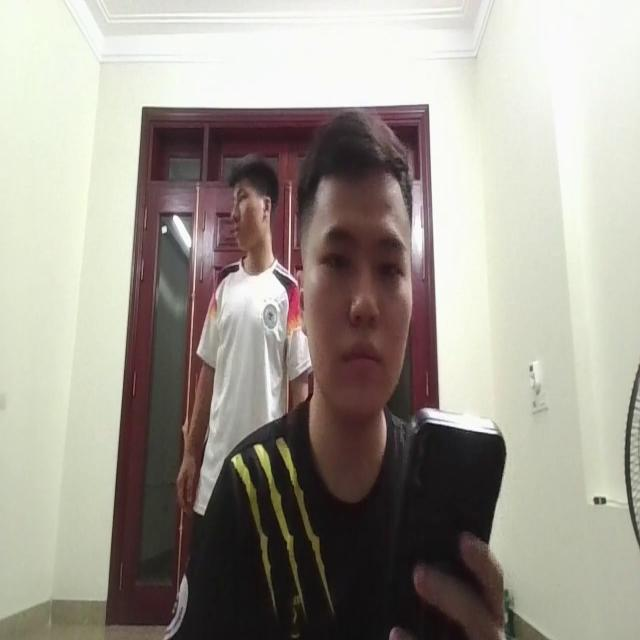extra_person: (168, 154, 310, 527)
phone: (383, 371, 508, 633)
student: (210, 114, 506, 640)
